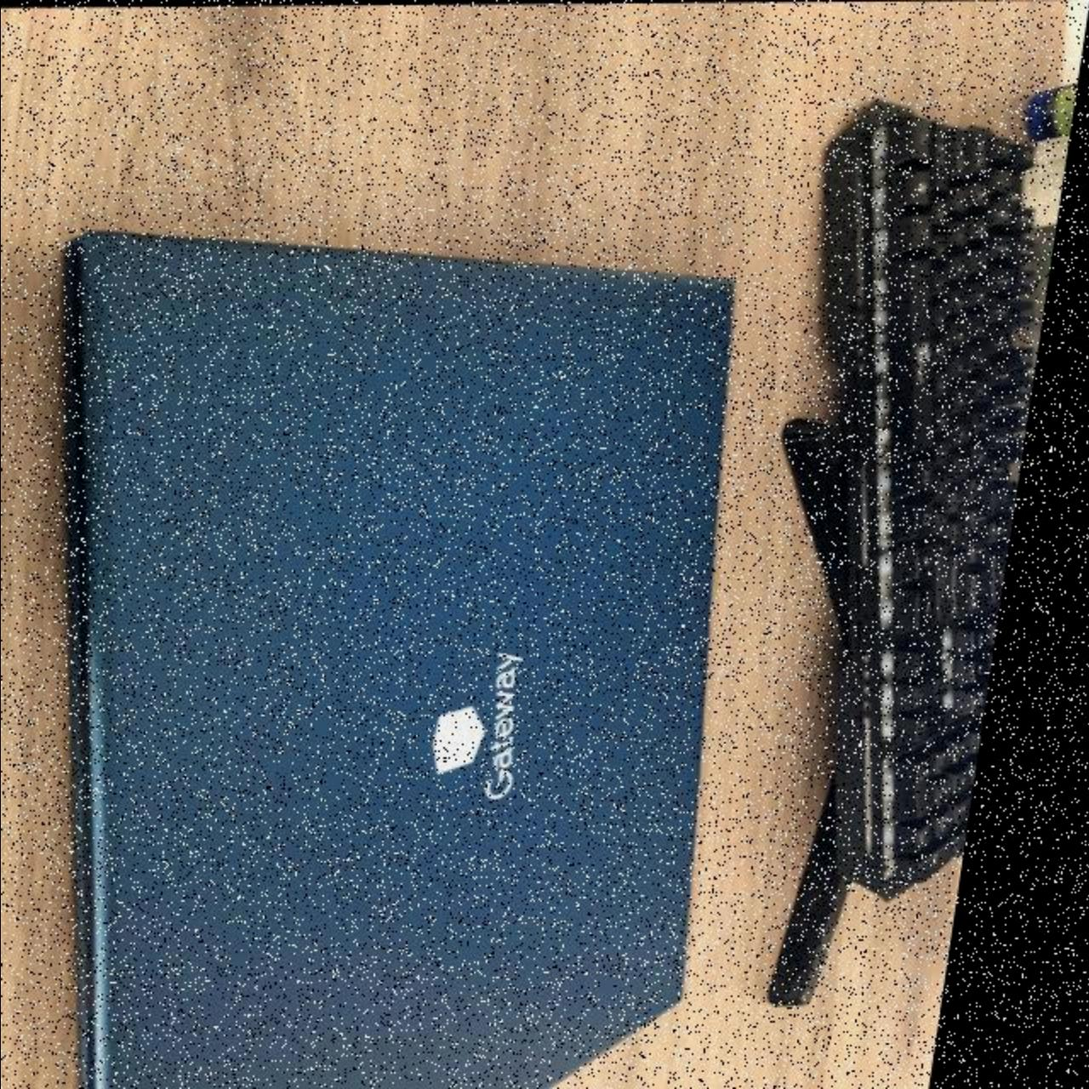laptop: (0, 218, 812, 1087)
